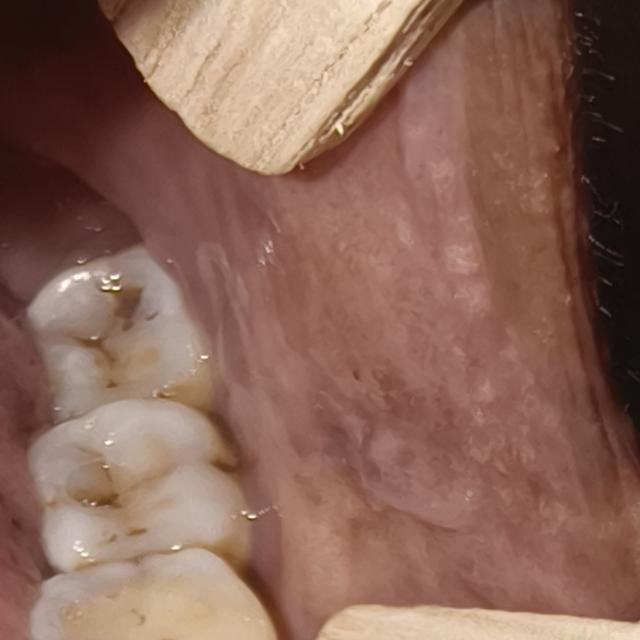leukoplakia-like-detection: (185, 2, 634, 619)
processing_area: (62, 0, 639, 620)
